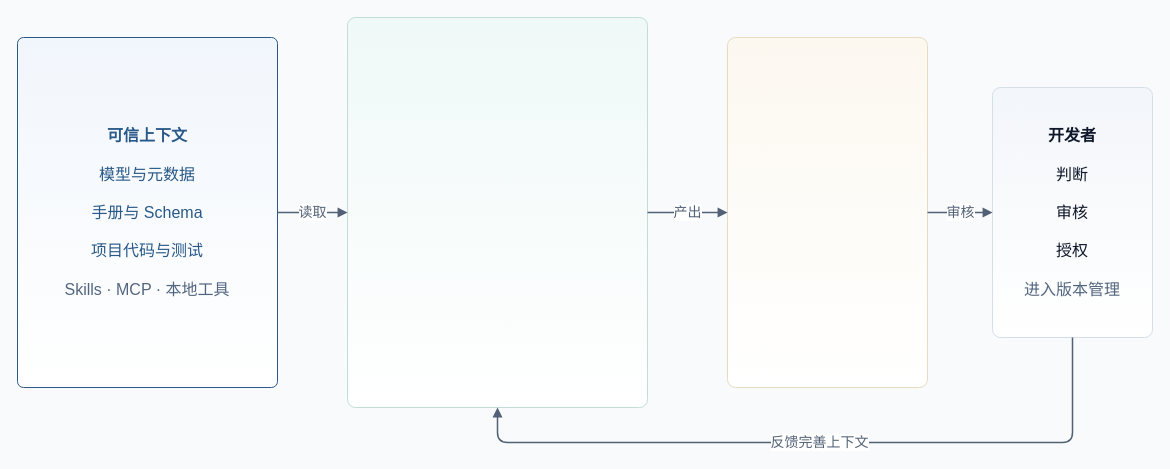
The diagram is 1170 pixels wide and 469 high, and some of its shapes have lost their labels. Here are the shapes that lost their labels. From the top down, the centre of each, then its label:
At pixel 497 212: "AI 参与开发 定位 解释 生成 检查 检索、生成与重复性工作".
At pixel 827 212: "开发资产 模型 代码 测试 文档 可校验、可审查".
